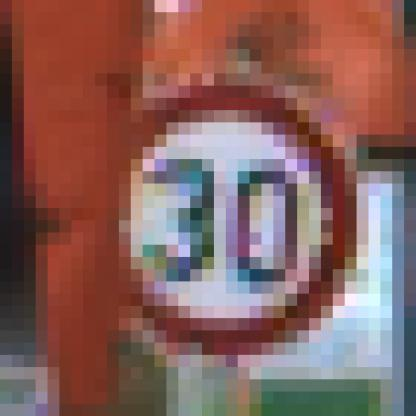Speed Limit 30: (139, 90, 358, 354)
